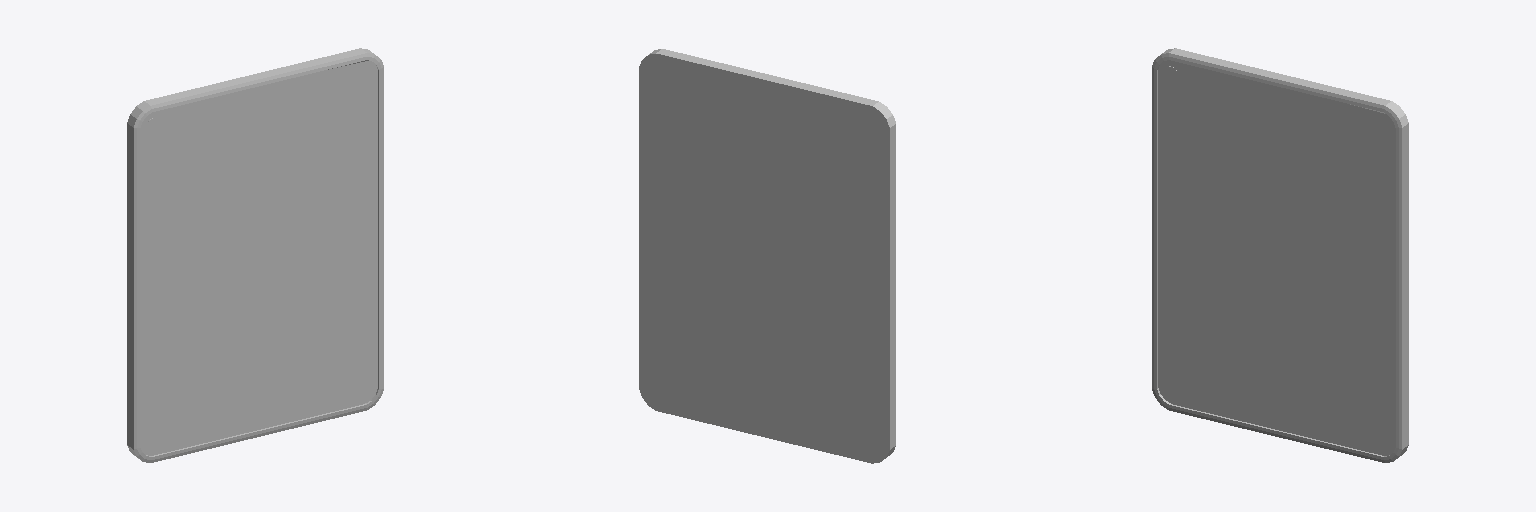
File: tablet.obj
3 views of the same model, side by side, from view 1: azimuth 30°, elevation 25°; view 2: azimuth 150°, elevation 25°; view 3: azimuth 330°, elevation 25° (orthographic).
Parts seen in each view (by area): view 1: ekran, obudowa; view 2: obudowa; view 3: ekran, obudowa.
Part boxes in pixels (x1,y1,x2,y2): ekran: (140, 61, 377, 455); obudowa: (127, 48, 383, 462); obudowa: (639, 49, 895, 463); ekran: (1158, 60, 1395, 455); obudowa: (1152, 48, 1408, 462).
Size of the model in its own units: 16.26 by 22.16 by 0.8052.